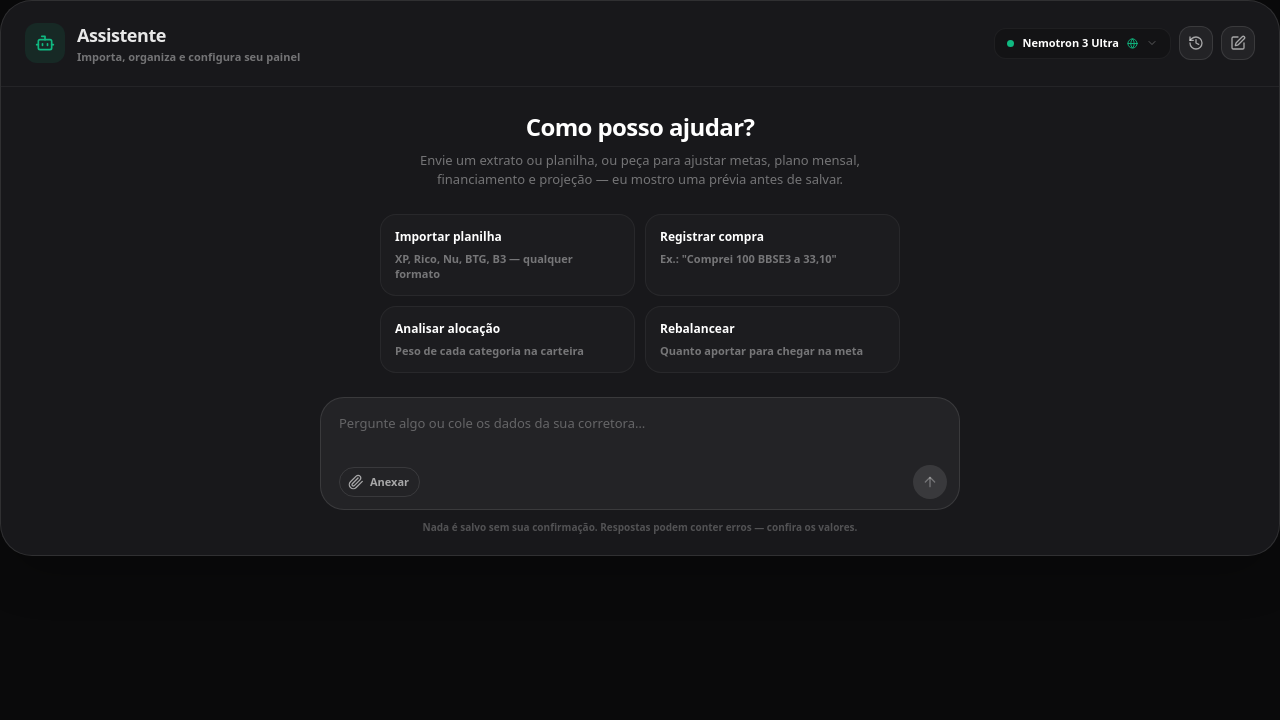
Test case: ChatPanel › fills the composer from the "Registrar compra" helper
The image size is (1280, 720).
Click the button "Registrar compra Ex.: \"Comprei 100 BBSE3 a 33,10\"" at (772, 255), box [645,214,900,296]
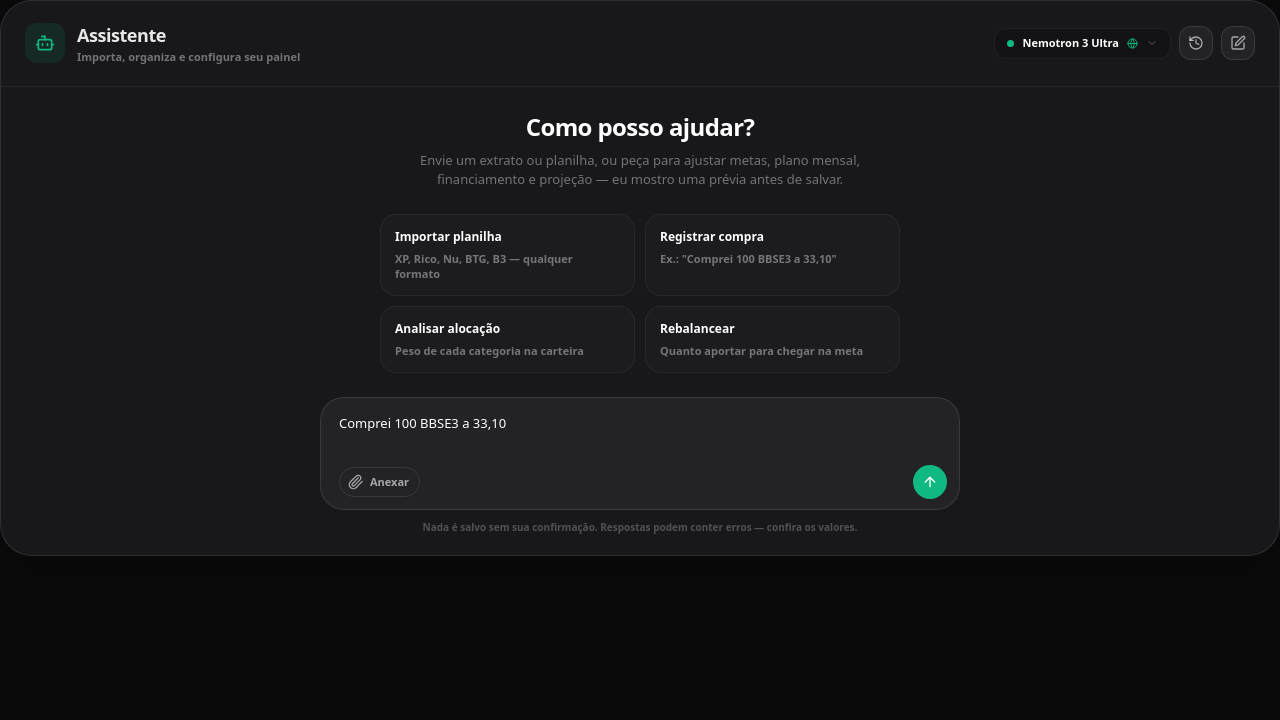
expect the text box with placeholder "Pergunte algo ou cole os dados da sua corretora…" holds "Comprei 100 BBSE3 a 33,10": met, box [339,410,947,457]
